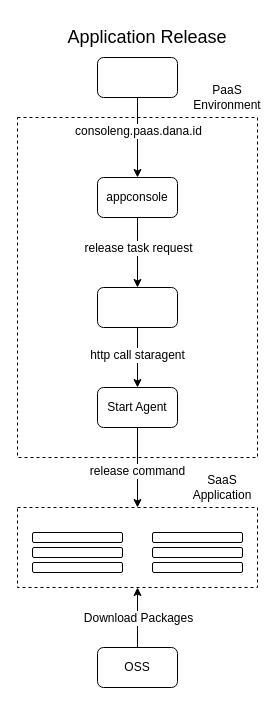
Some shapes in this 280 by 705 pixel diagram are drawn without their labels. The centre of each missing label's shape, as x and y in pixels:
DEPS: (x=137, y=307)
User: (x=137, y=77)
